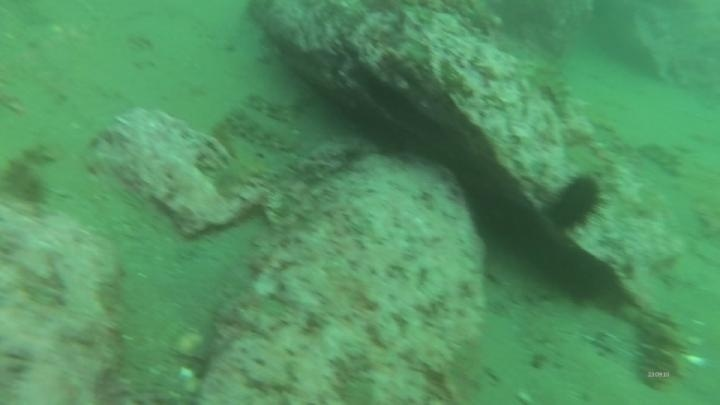echinus: (544, 171, 607, 235)
holothurian: (626, 304, 692, 392), (220, 105, 304, 155), (1, 139, 58, 211), (516, 56, 577, 123)
